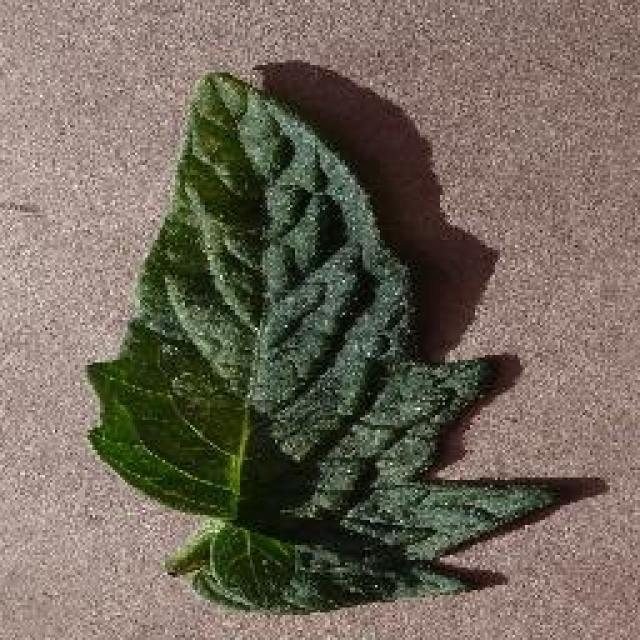Tomato mosaic virus leaf: (84, 71, 548, 611)
